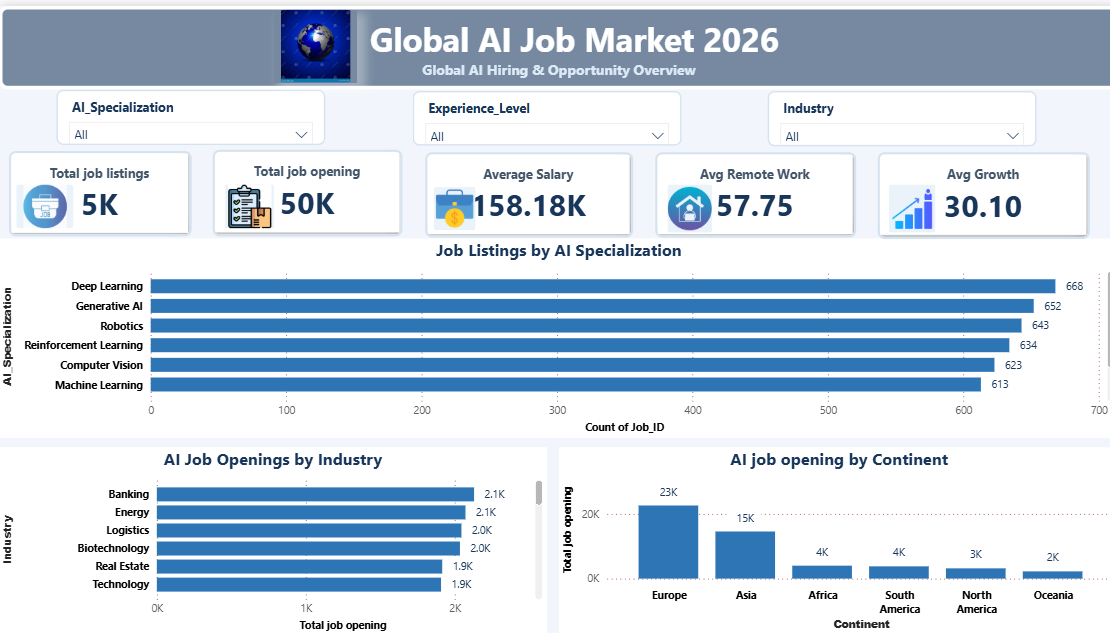

The dashboard page shown, as its layout file describes it:
{"tool":"powerbi","page":{"name":"Globale AI job Market Overview","canvas":[1280,720],"ordinal":0},"visuals":[{"type":"textbox","box":[0,0,1280,95],"z":0},{"type":"clusteredBarChart","title":"Job Listings by AI Specialization","fields":{"Category":["AI_Jobs.AI_Specialization"],"Y":["CountNonNull(AI_Jobs.Job_ID)"]},"box":[0,265.4,1280,228],"z":1000},{"type":"cardVisual","fields":{"Data":["AI_Jobs.Total job listings"]},"box":[10.9,165.3,208.7,97.7],"z":2000},{"type":"cardVisual","fields":{"Data":["AI_Jobs.Total job openings"]},"box":[244.9,164.1,217.2,98.9],"z":3000},{"type":"cardVisual","fields":{"Data":["AI_Jobs.Average Salary"]},"box":[487.4,166.5,237.7,97.7],"z":4000},{"type":"cardVisual","fields":{"Data":["AI_Jobs.Average Remote Work"]},"box":[750.4,167.7,229.2,97.7],"z":5000},{"type":"cardVisual","fields":{"Data":["AI_Jobs.Average Growth"]},"box":[1005,167.7,242.5,98.9],"z":6000},{"type":"clusteredBarChart","title":"AI Job Openings by Industry","fields":{"Category":["AI_Jobs.Industry"],"Y":["AI_Jobs.Total job openings"]},"box":[0,504.3,626.1,216],"z":7000},{"type":"clusteredColumnChart","title":"AI job opening by Continent","fields":{"Category":["AI_Jobs.Continent"],"Y":["AI_Jobs.Total job openings"]},"box":[639.4,504.3,640.6,216],"z":8000},{"type":"slicer","fields":{"Values":["AI_Jobs.AI_Specialization"]},"box":[65.7,95.7,307,62.9],"z":9000},{"type":"slicer","fields":{"Values":["AI_Jobs.Industry"]},"box":[878.6,96.4,307.1,62.9],"z":10000},{"type":"slicer","fields":{"Values":["AI_Jobs.Experience_Level"]},"box":[472.1,97.1,307,62],"z":11000},{"type":"image","box":[313.7,4.8,95.3,83.2],"z":12000},{"type":"image","box":[19.3,203.9,65.1,49.5],"z":13000},{"type":"image","box":[258.2,203.9,55.5,49.5],"z":14000},{"type":"image","box":[497.1,207.1,47.1,48.6],"z":15000},{"type":"image","box":[764.3,204.3,50,54.3],"z":16000},{"type":"image","box":[1017,203.9,53.1,54.3],"z":17000}]}

Visuals, with their boxes in screenshot pixels (x1, y1, x2, y2), scaled from the page's 1280x720 canvas onto the 1110x633 screenshot:
textbox: detection(0, 0, 1109, 84)
"Job Listings by AI Specialization" clusteredBarChart: detection(0, 233, 1109, 434)
cardVisual - AI_Jobs.Total job listings: detection(9, 145, 190, 231)
cardVisual - AI_Jobs.Total job openings: detection(212, 144, 401, 231)
cardVisual - AI_Jobs.Average Salary: detection(423, 146, 629, 232)
cardVisual - AI_Jobs.Average Remote Work: detection(651, 147, 849, 233)
cardVisual - AI_Jobs.Average Growth: detection(872, 147, 1082, 234)
"AI Job Openings by Industry" clusteredBarChart: detection(0, 443, 543, 632)
"AI job opening by Continent" clusteredColumnChart: detection(554, 443, 1109, 632)
slicer - AI_Jobs.AI_Specialization: detection(57, 84, 323, 139)
slicer - AI_Jobs.Industry: detection(762, 85, 1028, 140)
slicer - AI_Jobs.Experience_Level: detection(409, 85, 676, 140)
image: detection(272, 4, 355, 77)
image: detection(17, 179, 73, 223)
image: detection(224, 179, 272, 223)
image: detection(431, 182, 472, 225)
image: detection(663, 180, 706, 227)
image: detection(882, 179, 928, 227)
